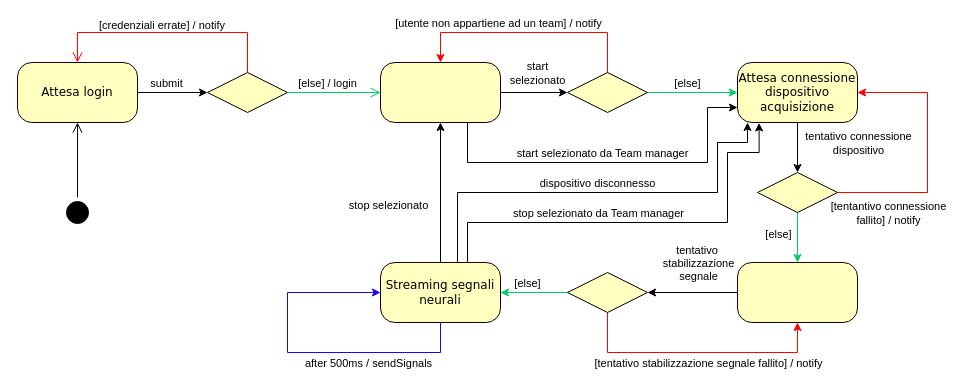
This 964x387 diagram has some shape labels left out. Here are the shapes that lost their labels. From the top down, the centre of each, then its label:
the point at 440,92: Attesa start
the point at 797,292: Stabilizzazione segnale
